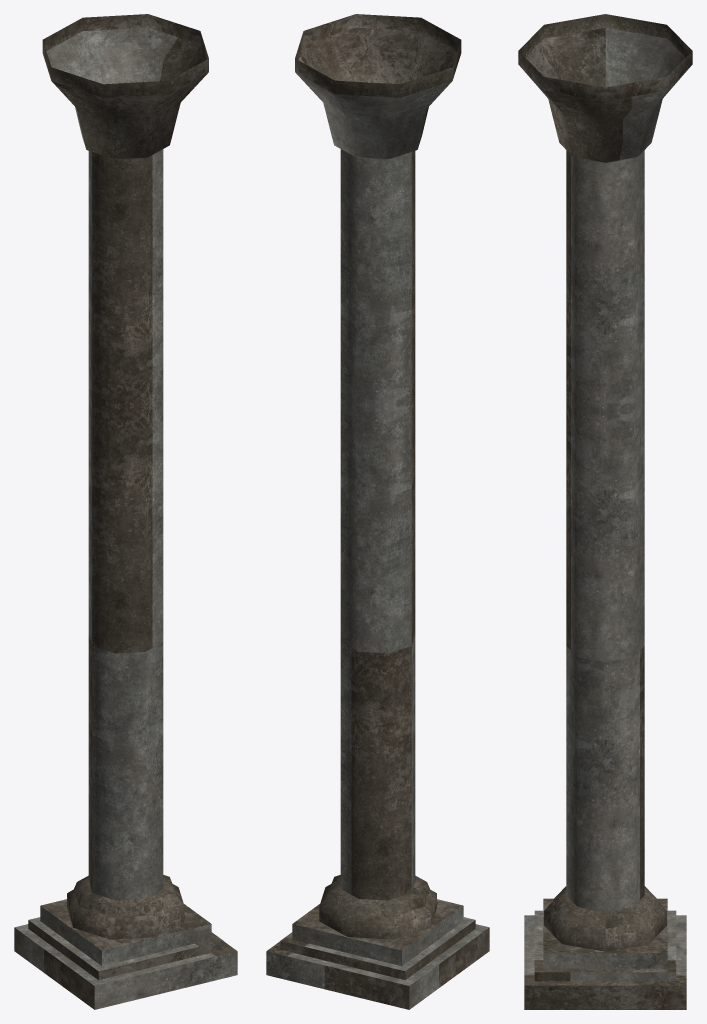
Rendered from SM_Column_Cylinder_a_001.fbx.
3 views of the same model, side by side, from view 1: azimuth 30°, elevation 25°; view 2: azimuth 150°, elevation 25°; view 3: azimuth 270°, elevation 25° (orthographic).
Visible parts, largest first — view 1: SM_Column_Cylinder_a_001; view 2: SM_Column_Cylinder_a_001; view 3: SM_Column_Cylinder_a_001.
Boxes of the visible parts, left/top/right/bottom form: SM_Column_Cylinder_a_001: left=14, top=14, right=237, bottom=1009; SM_Column_Cylinder_a_001: left=266, top=14, right=489, bottom=1009; SM_Column_Cylinder_a_001: left=518, top=14, right=692, bottom=1009.
Size of the model in its own units: 92.59 by 542 by 92.59.
